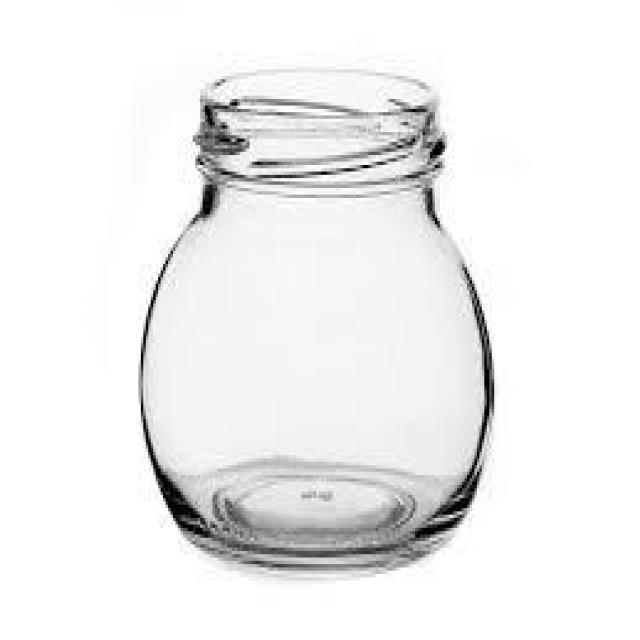glass: (134, 62, 496, 580)
